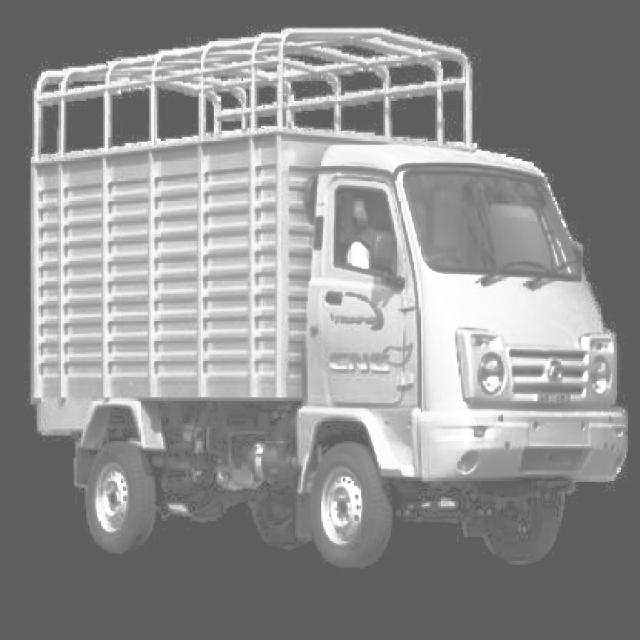LCV: (36, 71, 594, 549)
